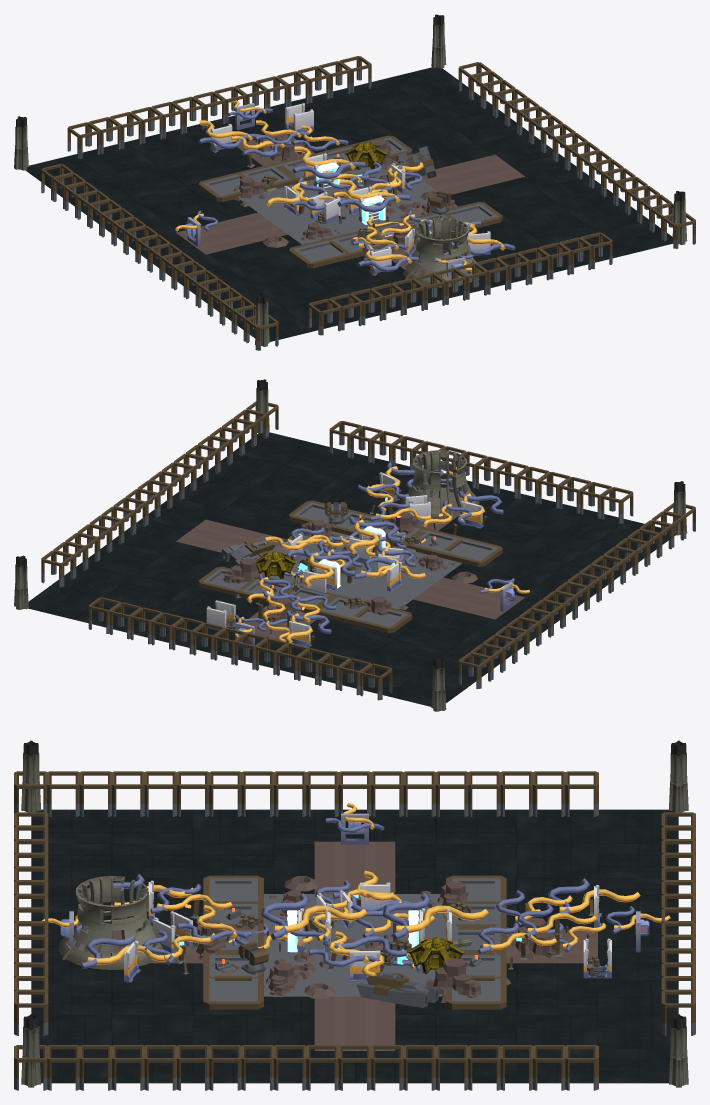
The model's file is titans.glb.
3 renders of one model, top to bottom at view 1: azimuth 30°, elevation 25°; view 2: azimuth 150°, elevation 25°; view 3: azimuth 270°, elevation 25°, orthographic. The views are drawn at different scales.
Visible parts, largest first — view 1: Ceiling (×43), Mesh_terrain_roadStraight (×4), Mesh_platform_long_1 (×3), mesh_155_Mesh_cool_tower_fins_subset_0, Mesh_platform_long (×2), platform_center (×2), mesh_167_Mesh_column_subset_0 (×2), mesh_155_Mesh_cool_tower_fins_subset_1, SpineCorridor_South__cables, SpineCorridor_North__cables, HangarWall_DentedA__corridor, HangarWall_TornA__cables (+4 smaller); view 2: Ceiling (×43), Mesh_terrain_roadStraight (×3), Mesh_platform_long_1 (×3), platform_center (×3), Mesh_platform_long (×2), mesh_155_Mesh_cool_tower_fins_subset_0, mesh_155_Mesh_cool_tower_fins_subset_1, mesh_167_Mesh_column_subset_0 (×2), SpineCorridor_North__cables, SpineCorridor_South__cables, HangarRover_Wreck__mesh_49_Mesh_uav_subset_0, HangarWall_DentedA__corridor (+4 smaller); view 3: Ceiling (×50), Mesh_structure (×35), Mesh_terrain_roadStraight (×5), Mesh_platform_long_1 (×7), mesh_167_Mesh_column_subset_0 (×4), mesh_155_Mesh_cool_tower_fins_subset_0, Mesh_platform_long (×3), platform_center (×3), mesh_155_Mesh_cool_tower_fins_subset_1, SpineCorridor_North__cables, SpineCorridor_South__cables, Mesh_terrain_roadStraight_1 (×2) (+22 smaller).
Boxes of the visible parts, <box> form: Ceiling (×43): <box>25,67,672,341</box>; Mesh_terrain_roadStraight (×4): <box>176,154,524,254</box>; Mesh_platform_long_1 (×3): <box>203,167,498,262</box>; mesh_155_Mesh_cool_tower_fins_subset_0: <box>402,218,481,287</box>; Mesh_platform_long (×2): <box>198,164,384,268</box>; platform_center (×2): <box>250,202,333,239</box>; mesh_167_Mesh_column_subset_0 (×2): <box>14,23,446,170</box>; mesh_155_Mesh_cool_tower_fins_subset_1: <box>405,218,479,279</box>; SpineCorridor_South__cables: <box>337,179,411,212</box>; SpineCorridor_North__cables: <box>292,146,365,179</box>; HangarWall_DentedA__corridor: <box>285,103,313,131</box>; HangarWall_TornA__cables: <box>197,120,261,148</box>; Ceiling (×43): <box>28,432,675,706</box>; Mesh_terrain_roadStraight (×3): <box>176,519,524,619</box>; Mesh_platform_long_1 (×3): <box>293,502,497,627</box>; platform_center (×3): <box>339,562,450,604</box>; Mesh_platform_long (×2): <box>318,529,502,632</box>; mesh_155_Mesh_cool_tower_fins_subset_0: <box>400,450,479,519</box>; mesh_155_Mesh_cool_tower_fins_subset_1: <box>405,452,473,519</box>; mesh_167_Mesh_column_subset_0 (×2): <box>14,564,446,711</box>; SpineCorridor_North__cables: <box>303,549,355,587</box>; SpineCorridor_South__cables: <box>348,516,400,554</box>; HangarRover_Wreck__mesh_49_Mesh_uav_subset_0: <box>255,552,295,578</box>; HangarWall_DentedA__corridor: <box>206,600,235,630</box>; Ceiling (×50): <box>31,809,678,1083</box>; Mesh_structure (×35): <box>14,771,695,1077</box>; Mesh_terrain_roadStraight (×5): <box>314,841,597,1050</box>; Mesh_platform_long_1 (×7): <box>209,878,500,1001</box>; mesh_167_Mesh_column_subset_0 (×4): <box>21,752,688,1087</box>; mesh_155_Mesh_cool_tower_fins_subset_0: <box>58,876,163,969</box>; Mesh_platform_long (×3): <box>203,875,506,1009</box>; platform_center (×3): <box>294,919,408,996</box>; mesh_155_Mesh_cool_tower_fins_subset_1: <box>62,876,159,959</box>; SpineCorridor_North__cables: <box>382,893,488,940</box>; SpineCorridor_South__cables: <box>261,893,367,940</box>; Mesh_terrain_roadStraight_1 (×2): <box>334,841,375,1050</box>.
Bounding box in the file's own units: 67.4 × 7.75 × 67.4.
Materials: 151 (46 with a texture image).
